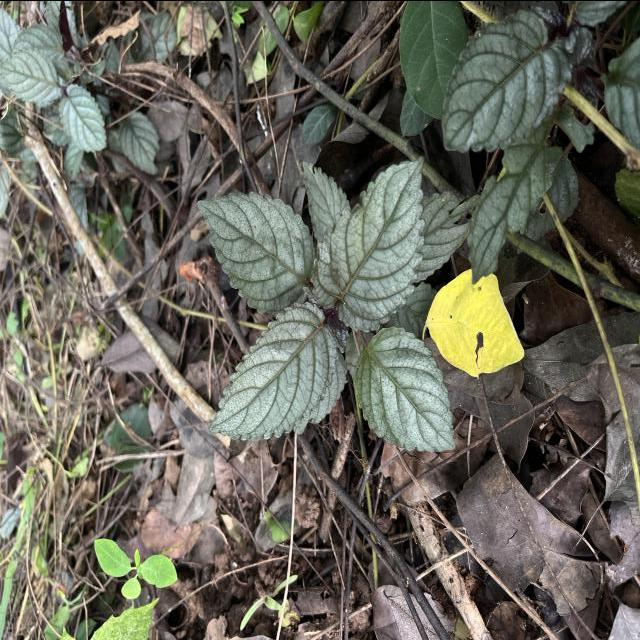Hemigraphis colorata: (310, 150, 428, 334), (439, 6, 574, 155), (206, 298, 340, 442), (195, 189, 320, 317), (353, 324, 458, 454), (298, 158, 354, 248)
